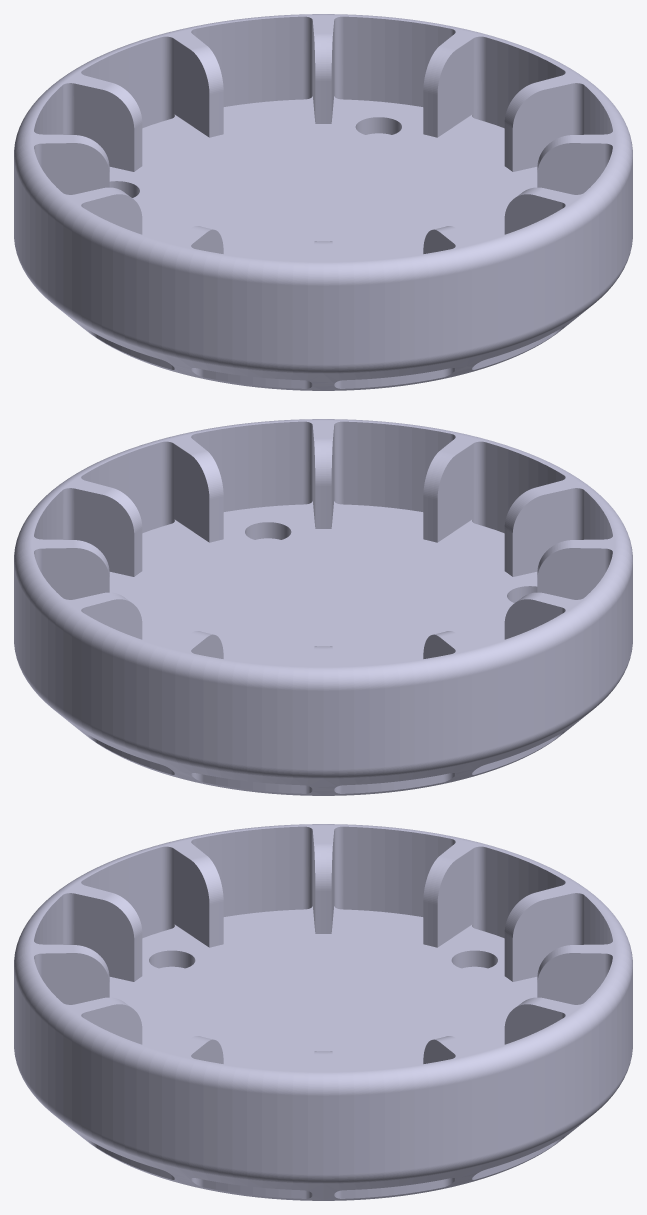
Rendered from os1_halo.dae.
3 renders of one model, top to bottom at view 1: azimuth 30°, elevation 25°; view 2: azimuth 150°, elevation 25°; view 3: azimuth 270°, elevation 25°, orthographic.
Parts seen in each view (by area): view 1: node0; view 2: node0; view 3: node0.
Part boxes in pixels (bbox=[...]): node0: bbox=[14, 14, 632, 390]; node0: bbox=[14, 419, 632, 795]; node0: bbox=[14, 824, 632, 1200].
Bounding box in the file's own units: 0.0868 × 0.0868 × 0.0214.
